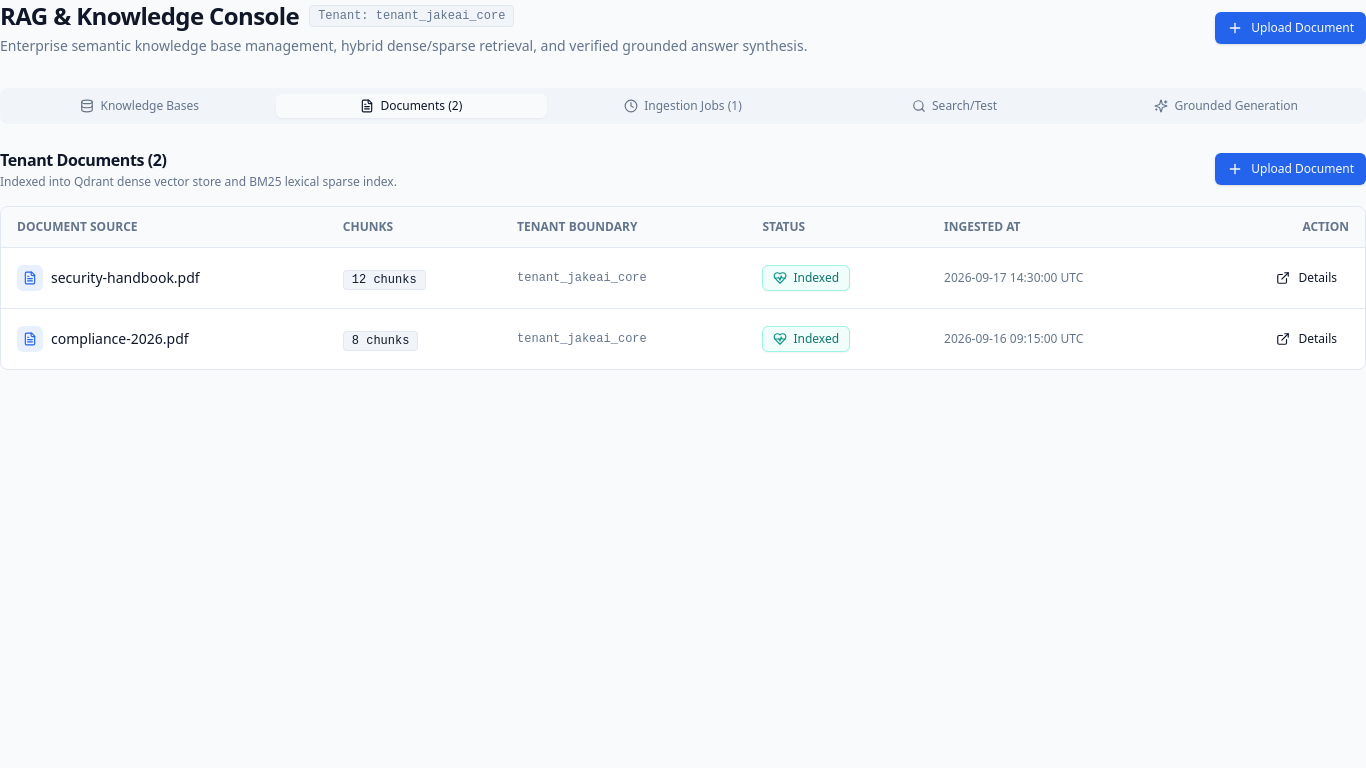
Test case: FE-05 RAG Console Integration Suite › handles document ingestion failure and displays error feedback
Click the button "Upload Document" in the row of "Tenant:" at x=1291, y=28, box [1215,12,1365,44]
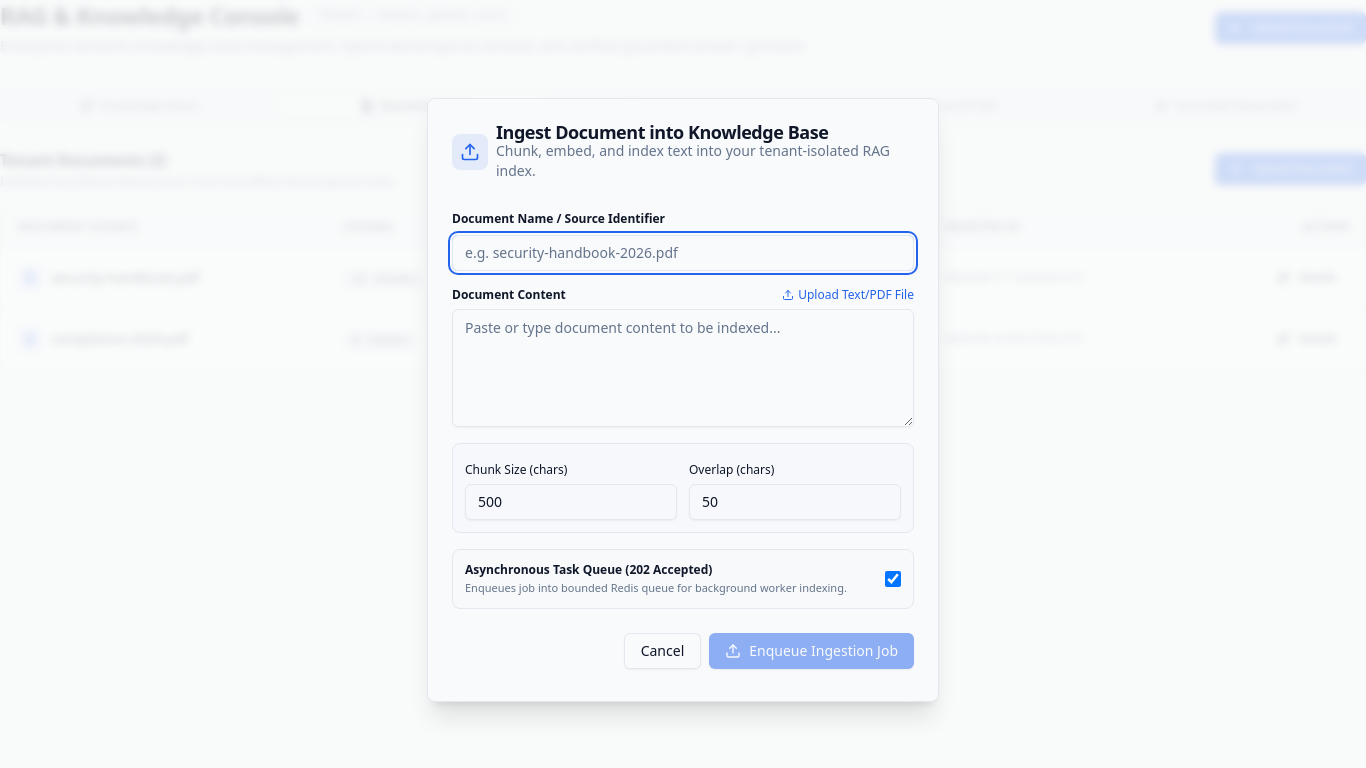
Type "corrupt-file.pdf" into the field labelled "Document Name / Source Identifier" at x=683, y=253, box [452,235,914,271]
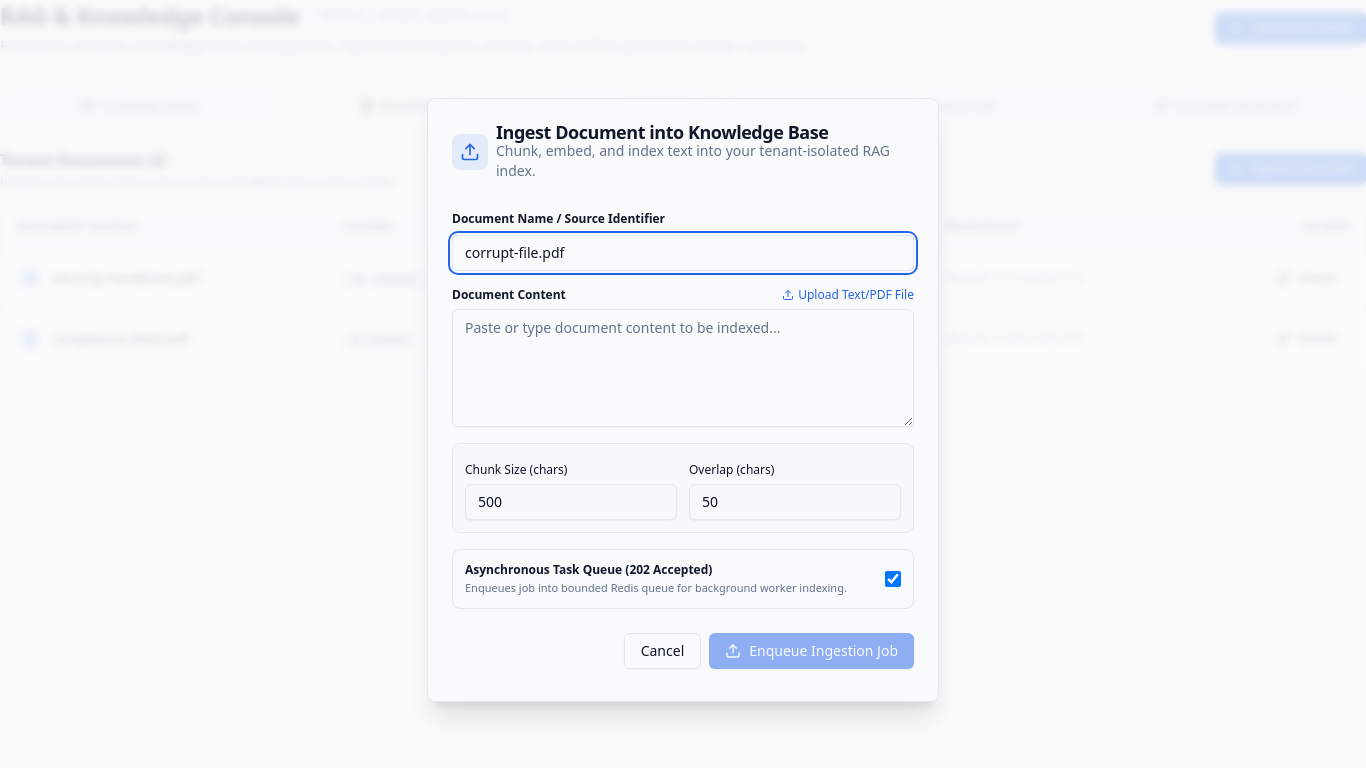
Type "fail-now: trigger 400 error" into the text box labelled "Document Content" at x=683, y=368, box [452,309,914,427]
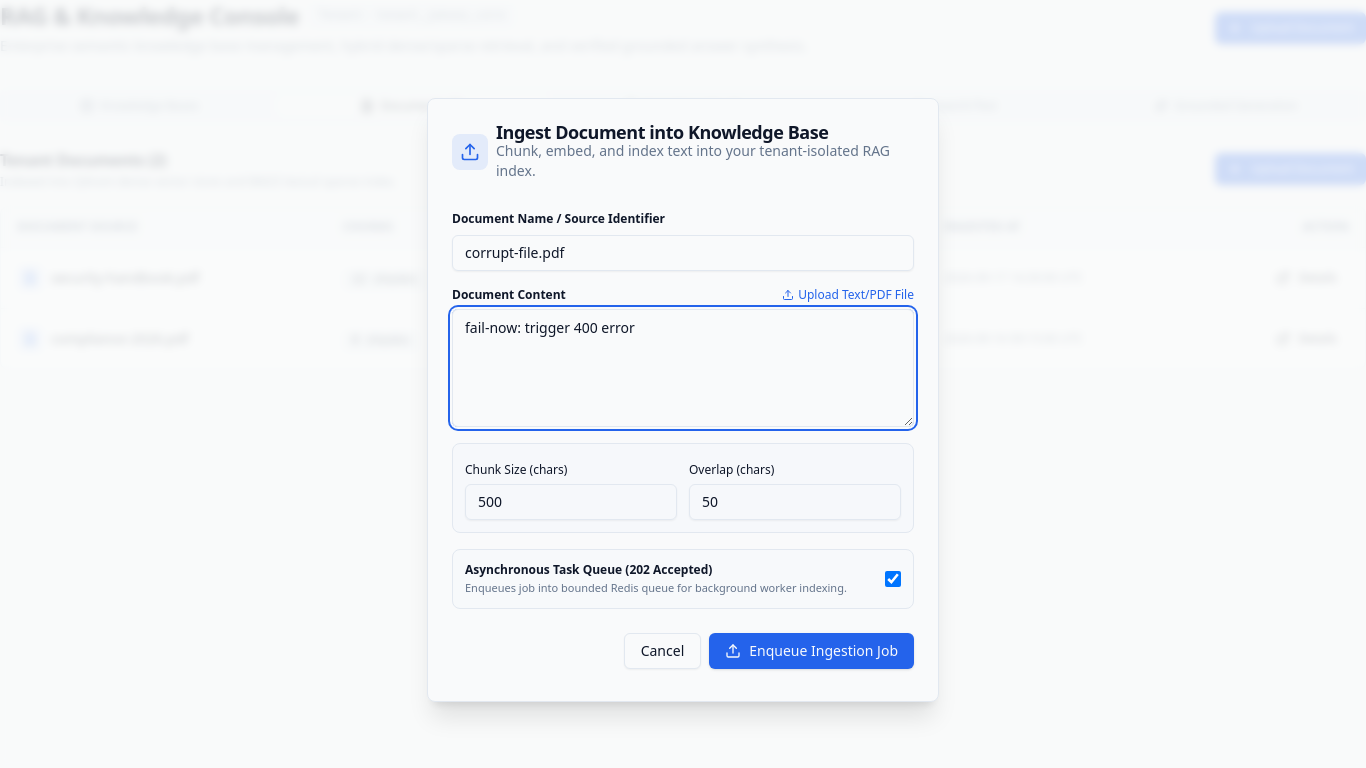
Click the button "Enqueue Ingestion Job" at x=812, y=651, box [709,633,914,669]
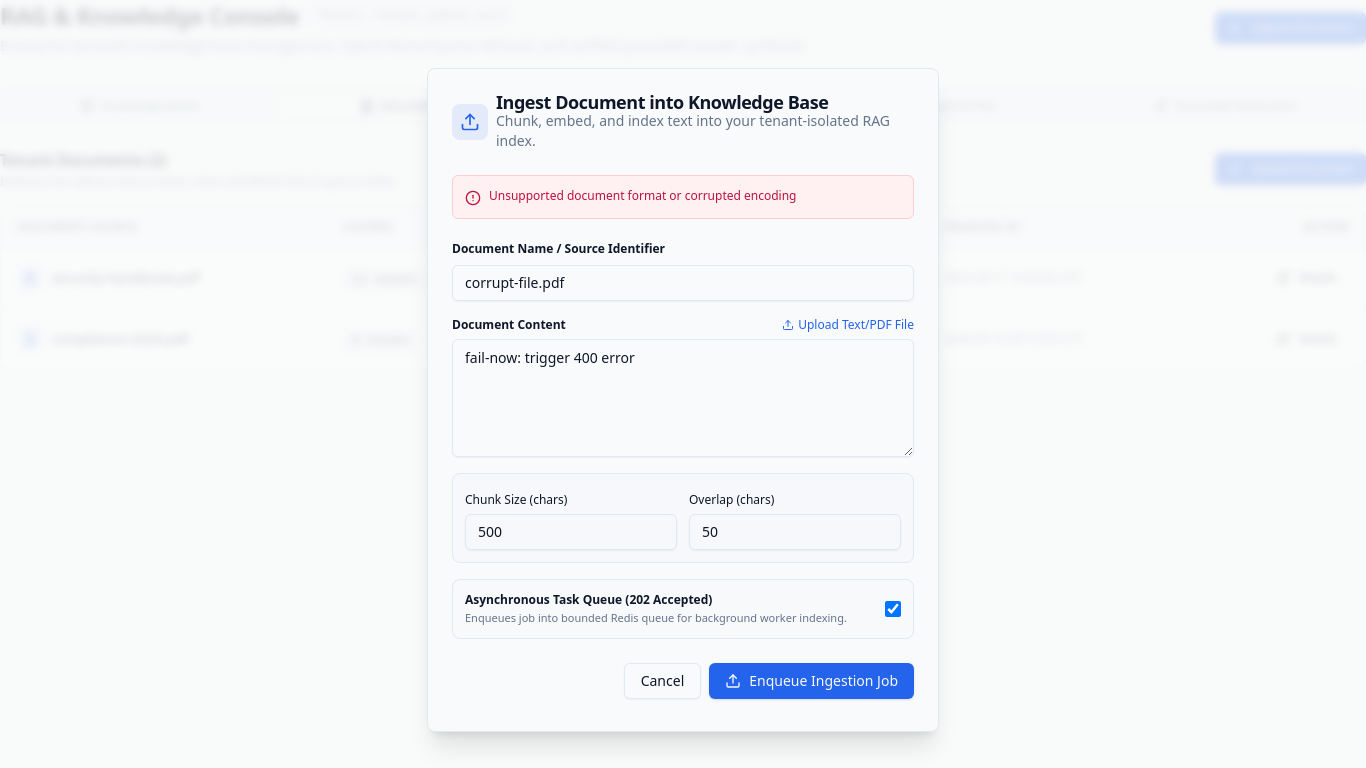
Now the text "Unsupported document format or corrupted encoding" is shown, box [489,188,796,204]
